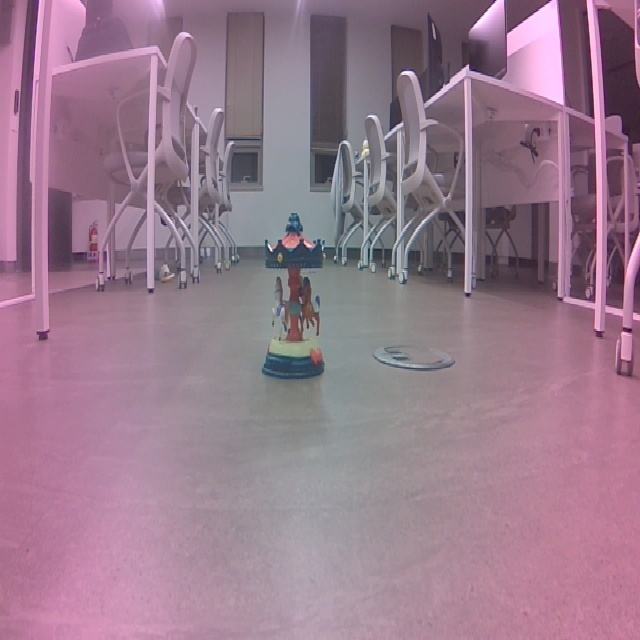목적지: (318, 190, 414, 370)
